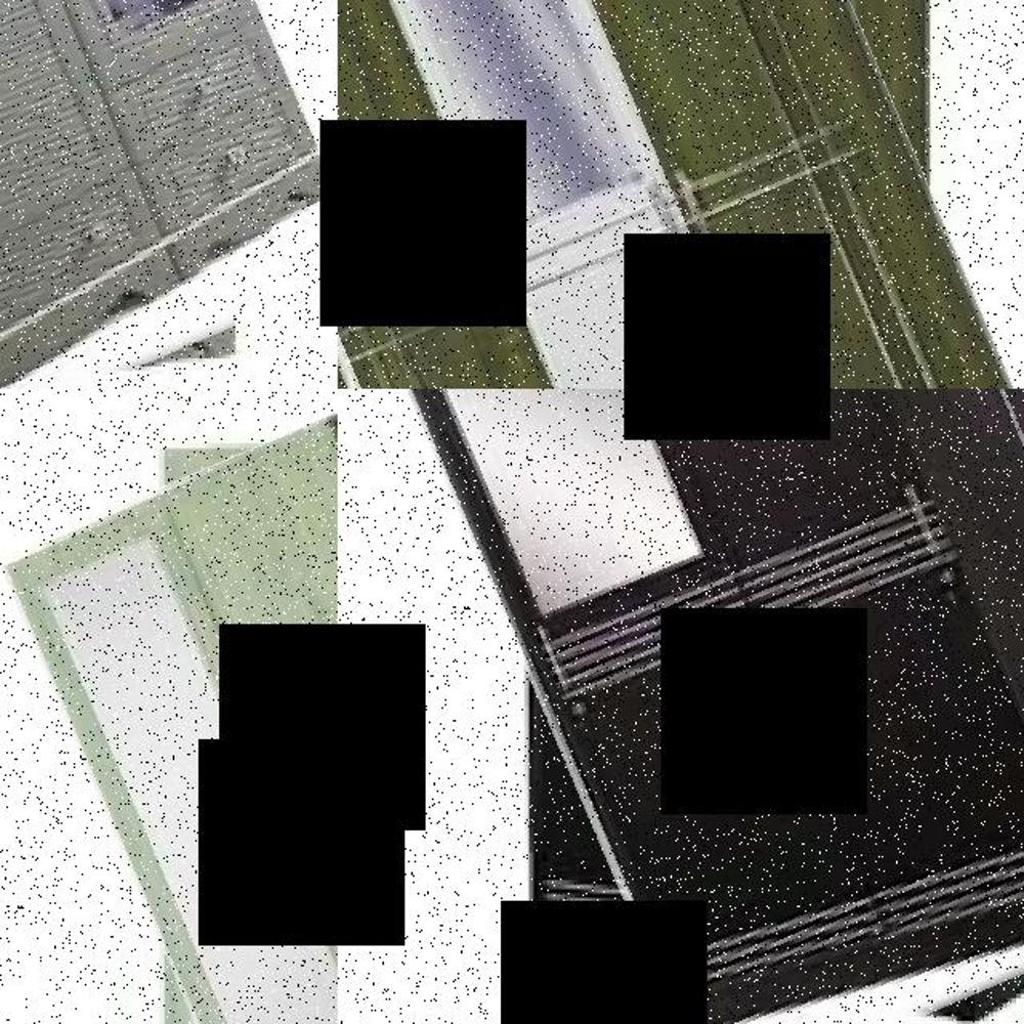cabinet: (446, 389, 1024, 1024), (338, 0, 1010, 389), (78, 413, 338, 1024), (0, 0, 338, 389)
